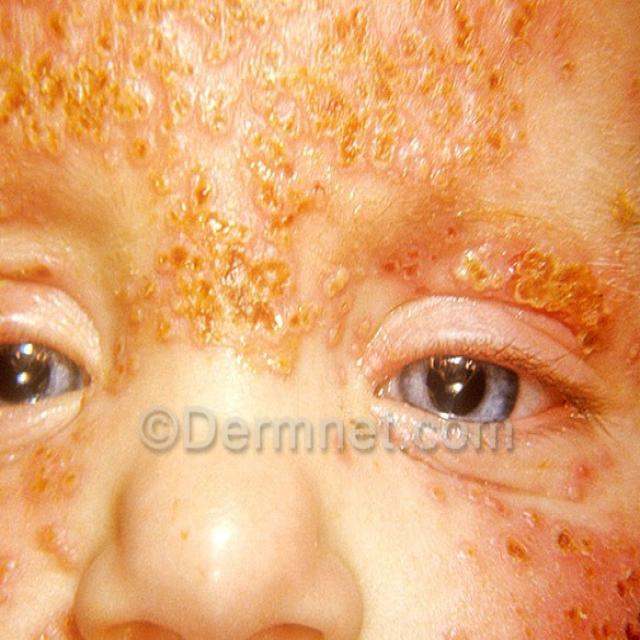Viral Infections: (0, 10, 640, 166), (392, 144, 640, 380), (146, 175, 321, 376), (447, 468, 640, 640), (0, 475, 118, 640), (0, 173, 100, 308)
